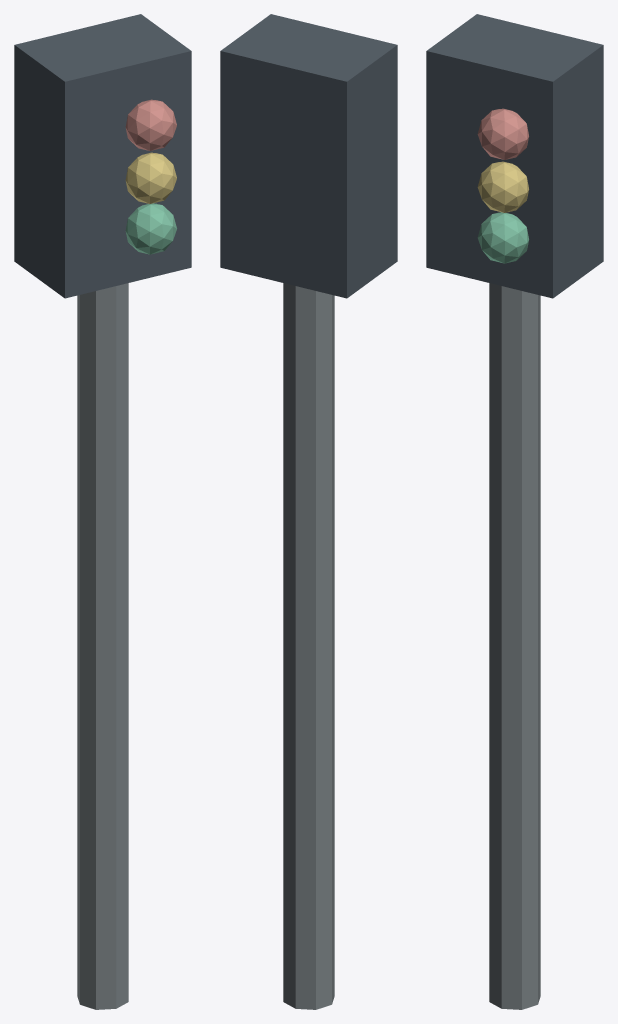
The model's file is prop_traffic_light.glb.
3 renders of one model, left to right at view 1: azimuth 30°, elevation 25°; view 2: azimuth 150°, elevation 25°; view 3: azimuth 330°, elevation 25°, orthographic.
Parts seen in each view (by area): view 1: prop_traffic_light_black, prop_traffic_light_metal, prop_traffic_light_yellow, prop_traffic_light_signal_red, prop_traffic_light_signal_green; view 2: prop_traffic_light_black, prop_traffic_light_metal; view 3: prop_traffic_light_black, prop_traffic_light_metal, prop_traffic_light_yellow, prop_traffic_light_signal_red, prop_traffic_light_signal_green.
Part boxes in pixels (x1=…): prop_traffic_light_black: x1=14, y1=14, x2=191, y2=298; prop_traffic_light_metal: x1=77, y1=283, x2=128, y2=1009; prop_traffic_light_yellow: x1=125, y1=152, x2=176, y2=203; prop_traffic_light_signal_red: x1=125, y1=99, x2=176, y2=150; prop_traffic_light_signal_green: x1=125, y1=203, x2=176, y2=254; prop_traffic_light_black: x1=220, y1=14, x2=397, y2=298; prop_traffic_light_metal: x1=283, y1=283, x2=334, y2=1009; prop_traffic_light_black: x1=426, y1=14, x2=603, y2=298; prop_traffic_light_metal: x1=489, y1=283, x2=540, y2=1009; prop_traffic_light_yellow: x1=477, y1=161, x2=528, y2=212; prop_traffic_light_signal_red: x1=477, y1=108, x2=528, y2=159; prop_traffic_light_signal_green: x1=477, y1=212, x2=528, y2=263.
Size of the model in its own units: 0.55 by 3.95 by 0.51.
